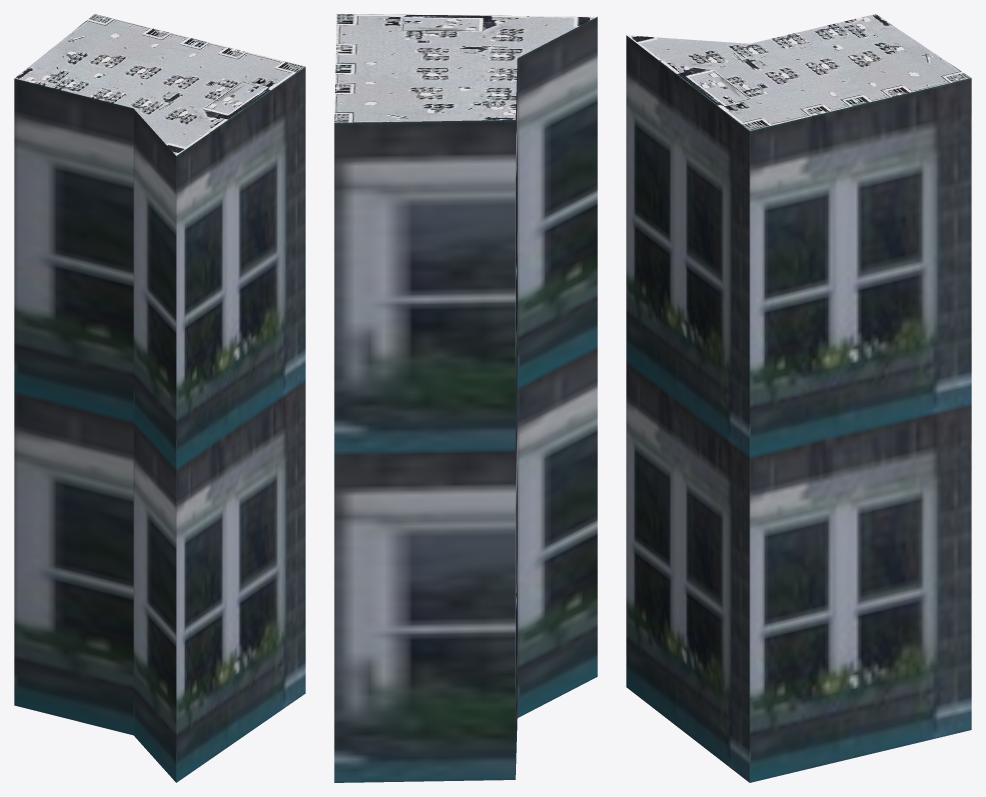
File: ResTex__1491.fbx
3 views of the same model, side by side, from view 1: azimuth 30°, elevation 25°; view 2: azimuth 150°, elevation 25°; view 3: azimuth 270°, elevation 25° (orthographic). The views are drawn at different scales.
Parts seen in each view (by area): view 1: CityEngineMaterial_11_m, CityEngineMaterial_4_m; view 2: CityEngineMaterial_11_m, CityEngineMaterial_4_m; view 3: CityEngineMaterial_11_m, CityEngineMaterial_4_m.
Boxes of the visible parts, box(x1,y1,x2,y2) form: CityEngineMaterial_11_m: box(14, 67, 305, 782); CityEngineMaterial_4_m: box(14, 14, 305, 155); CityEngineMaterial_11_m: box(334, 17, 597, 782); CityEngineMaterial_4_m: box(334, 14, 596, 122); CityEngineMaterial_11_m: box(626, 35, 971, 782); CityEngineMaterial_4_m: box(627, 14, 970, 130).
Size of the model in its own units: 2.31 by 6 by 2.88.
2 materials, 2 textured.
